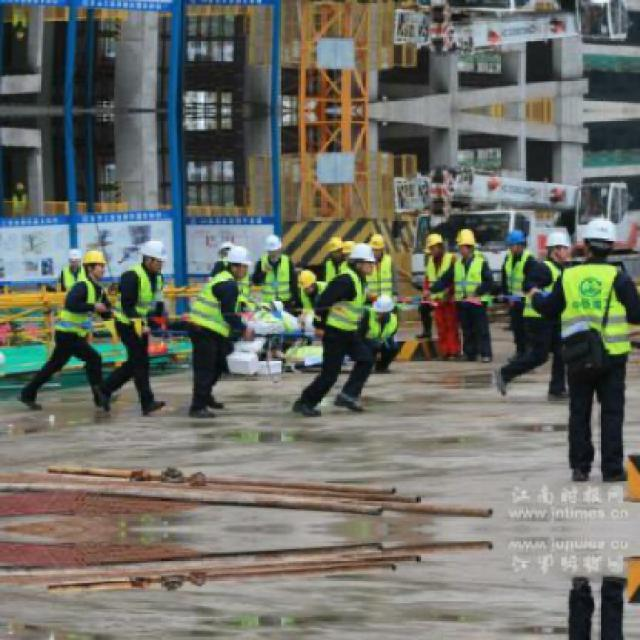reflective_jacket: (557, 261, 634, 363), (183, 270, 243, 341), (112, 264, 166, 337), (50, 277, 104, 346), (321, 270, 370, 338), (254, 254, 297, 303)
safety_helmet: (216, 240, 255, 269), (135, 235, 172, 264), (581, 215, 618, 242), (79, 246, 108, 270), (346, 241, 376, 264), (543, 227, 572, 249), (371, 292, 396, 316), (260, 232, 286, 255), (295, 267, 318, 292), (454, 226, 480, 247), (503, 227, 529, 247), (367, 230, 389, 252), (323, 234, 346, 254), (423, 230, 444, 249), (64, 246, 84, 264)
